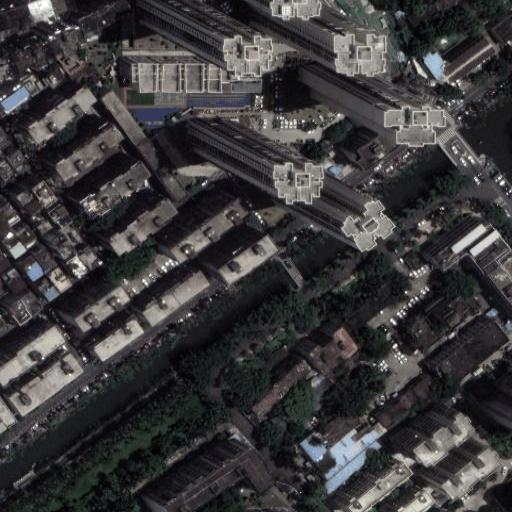building: (140, 435, 253, 511), (436, 218, 512, 308), (301, 0, 371, 85), (160, 188, 239, 253), (312, 413, 387, 480), (427, 311, 501, 378), (6, 349, 81, 413), (47, 116, 117, 177), (395, 402, 462, 463), (22, 78, 91, 137), (70, 151, 139, 209), (249, 360, 313, 420), (332, 453, 398, 510), (103, 193, 170, 249), (137, 266, 204, 320), (424, 440, 487, 495), (137, 140, 188, 203), (321, 440, 381, 493), (202, 223, 263, 275), (103, 55, 205, 86), (0, 316, 56, 371), (0, 23, 69, 66), (100, 90, 148, 149), (263, 161, 317, 213), (59, 276, 116, 323), (307, 326, 361, 375), (87, 313, 139, 357), (374, 385, 423, 431), (187, 116, 236, 159), (301, 65, 350, 108), (441, 40, 491, 82), (315, 407, 362, 451), (139, 0, 188, 35), (64, 0, 117, 29), (404, 315, 442, 353), (372, 482, 420, 512), (487, 376, 512, 427), (344, 130, 380, 164), (31, 56, 66, 89), (439, 296, 471, 327), (410, 372, 441, 403), (300, 431, 329, 461), (0, 85, 31, 113), (17, 188, 44, 216), (32, 180, 57, 208), (77, 245, 102, 272), (48, 268, 72, 294), (66, 254, 90, 279), (491, 16, 512, 44), (5, 149, 29, 173), (49, 204, 72, 229), (62, 222, 84, 246), (34, 249, 56, 272), (25, 261, 46, 282), (34, 215, 54, 236), (6, 277, 26, 297), (36, 276, 56, 295), (57, 239, 76, 258), (2, 206, 20, 225), (19, 253, 37, 271), (14, 309, 32, 327), (19, 229, 36, 247), (44, 286, 62, 303), (26, 300, 44, 317), (8, 241, 25, 258)
